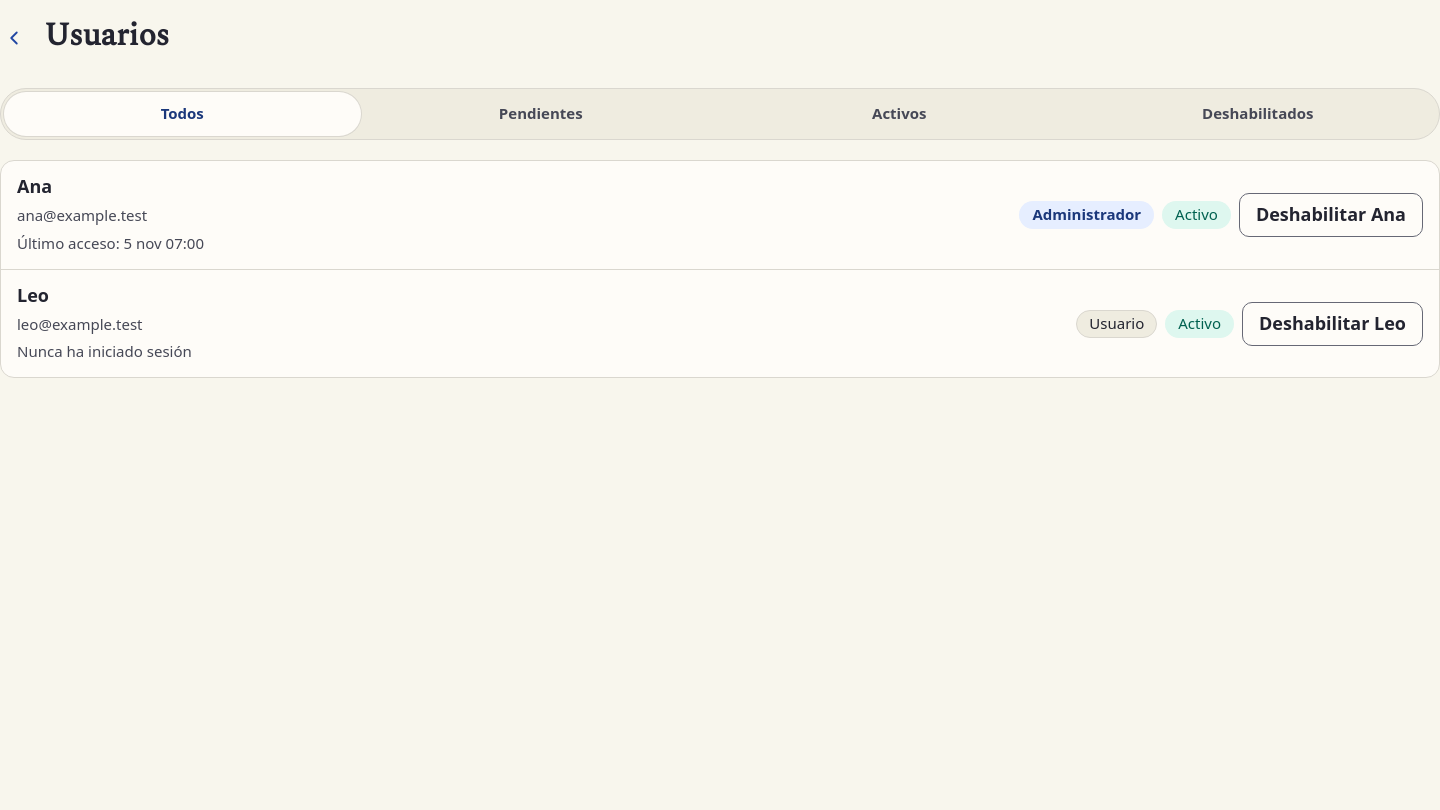
Test: el error del último admin se anuncia
The width and height of the screenshot is (1440, 810).
Click the button "Deshabilitar Ana": [1331, 215] box [1239,193,1423,237]
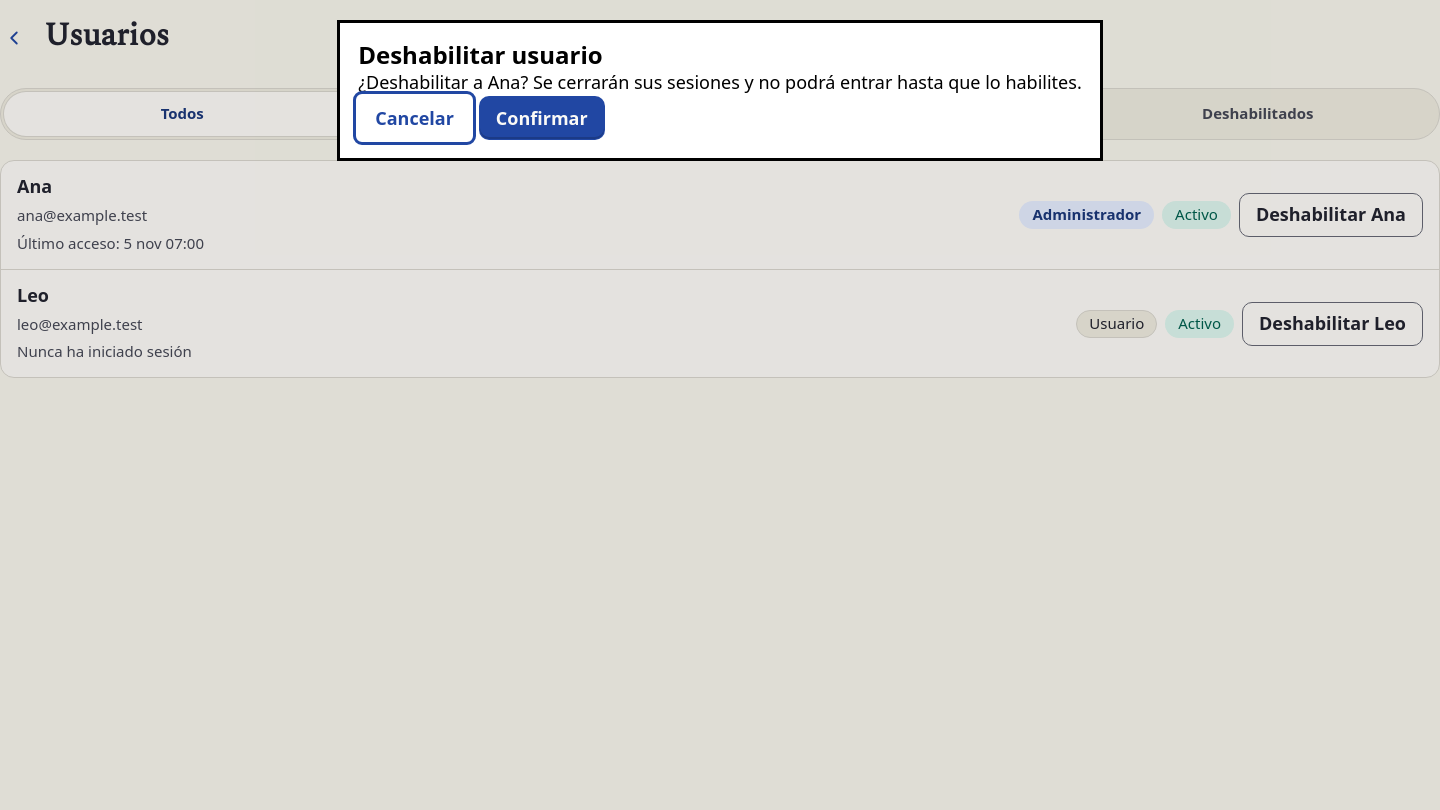
Click the button "Confirmar": [542, 118] box [479,96,605,140]
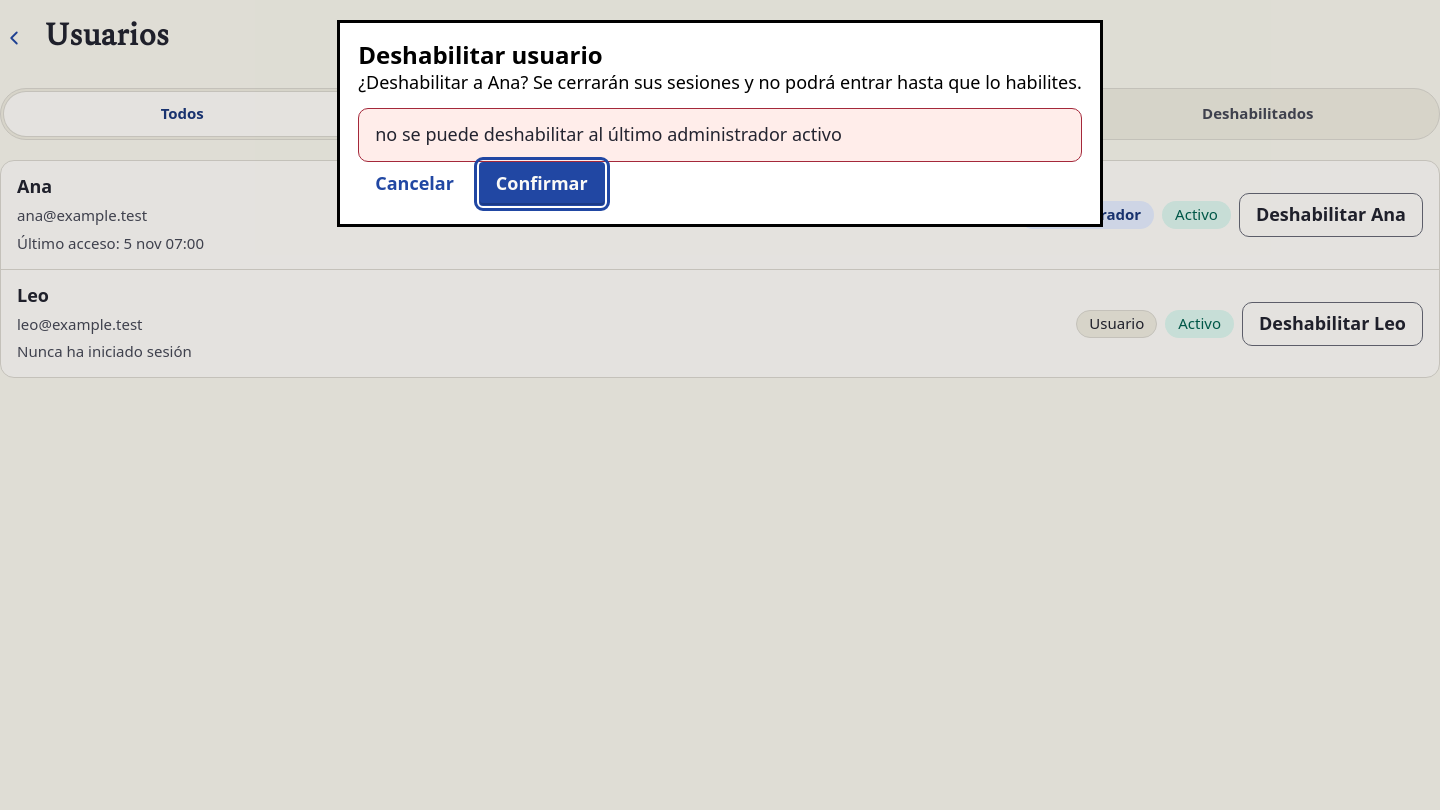
Expected: the text "Ana" is shown, [17,174,52,198]
Now the message shows "último administrador activo", box [375,122,842,146]
